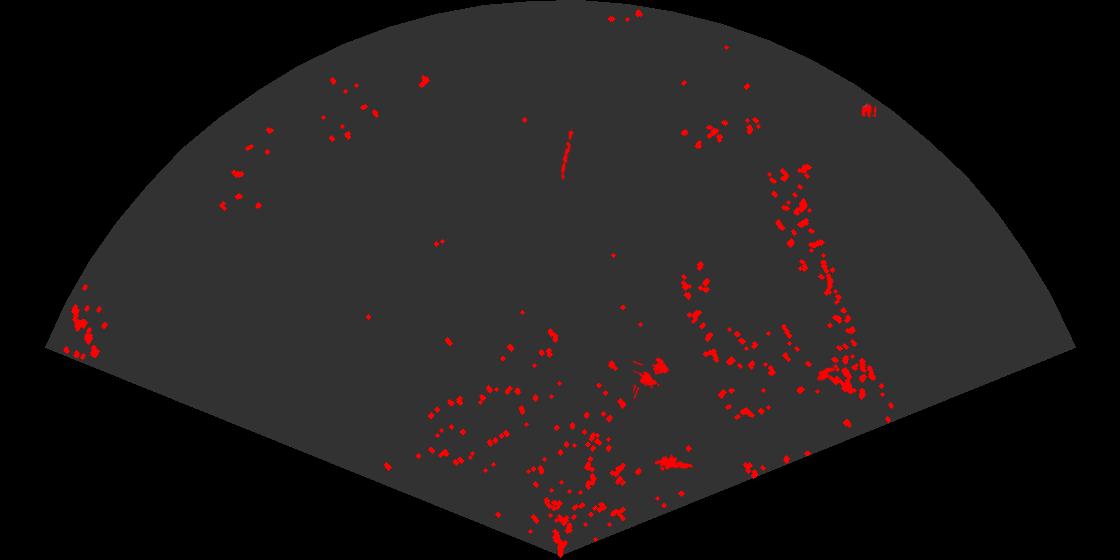AUV: (815, 365, 837, 383)
ball: (860, 102, 878, 119)
cage: (633, 356, 671, 399)
chain: (559, 127, 575, 180)
frogman: (655, 453, 693, 471)
